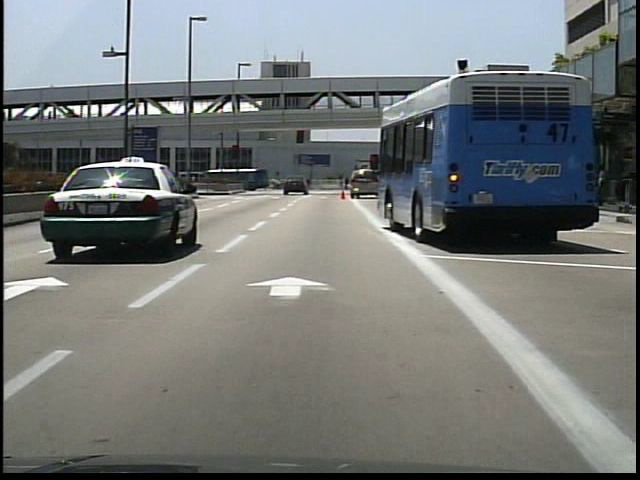person: (342, 175, 351, 191)
